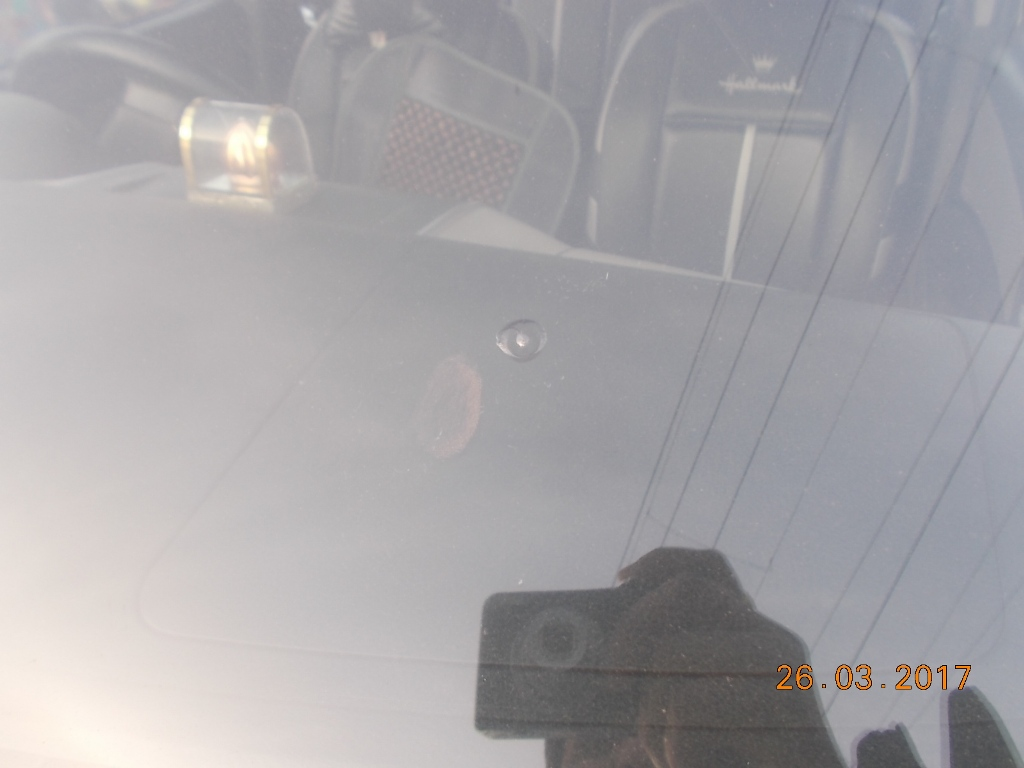Shatter: (497, 310, 558, 371)
